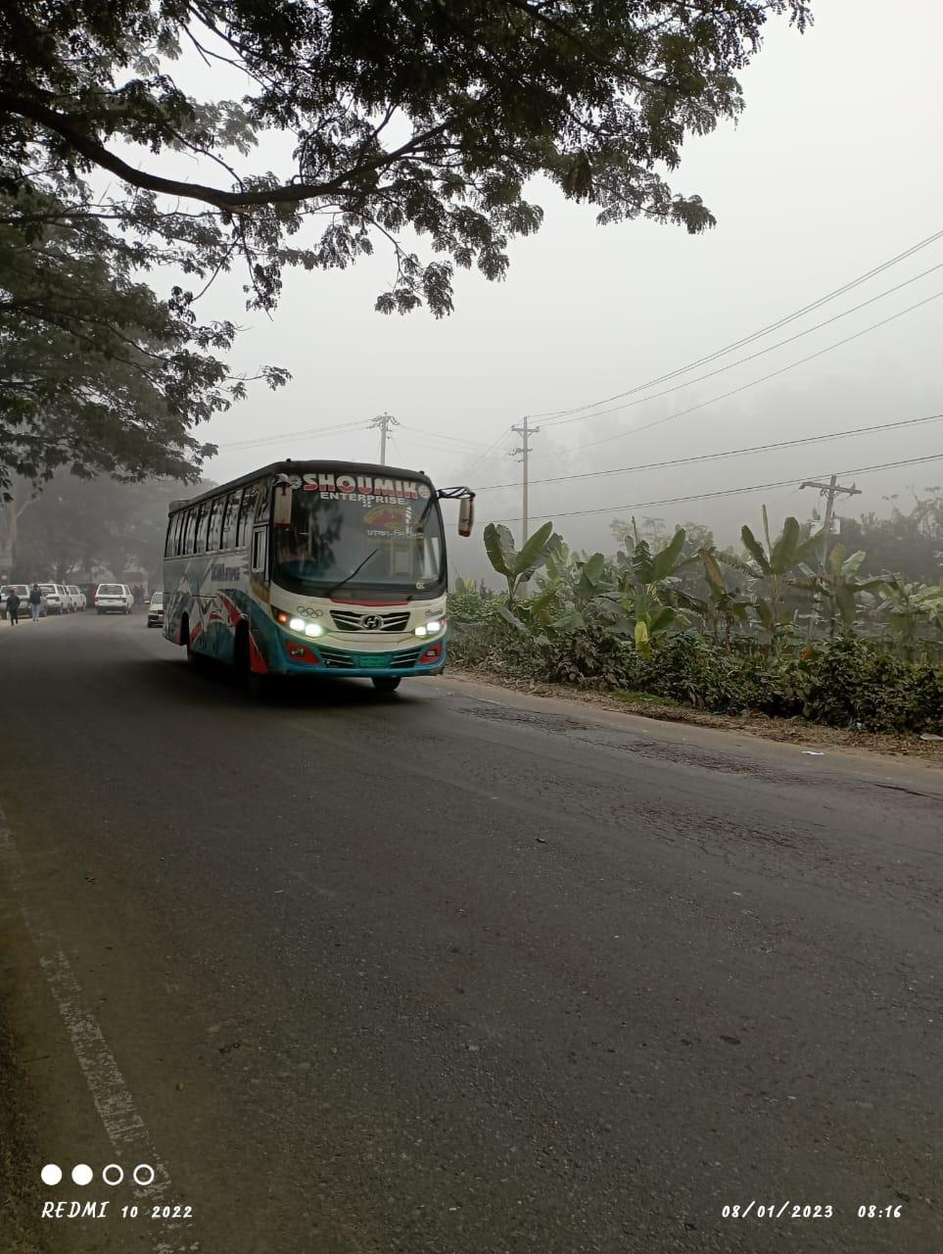Bus: (146, 458, 455, 701)
Car: (92, 579, 131, 619)
